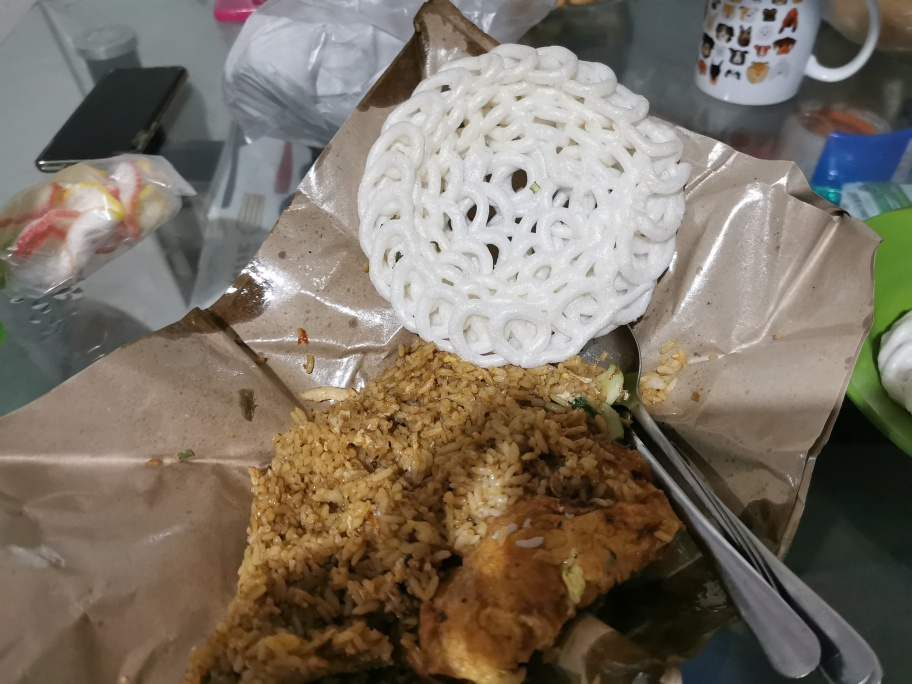kerupuk: (362, 42, 686, 354)
nasi goreng: (191, 361, 681, 684)
